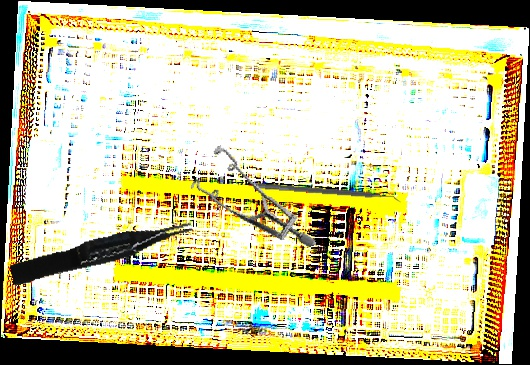Spatula Surgical: (257, 183, 402, 205)
Speculum: (180, 125, 317, 280)
Tissue Forceps: (7, 217, 197, 287)
